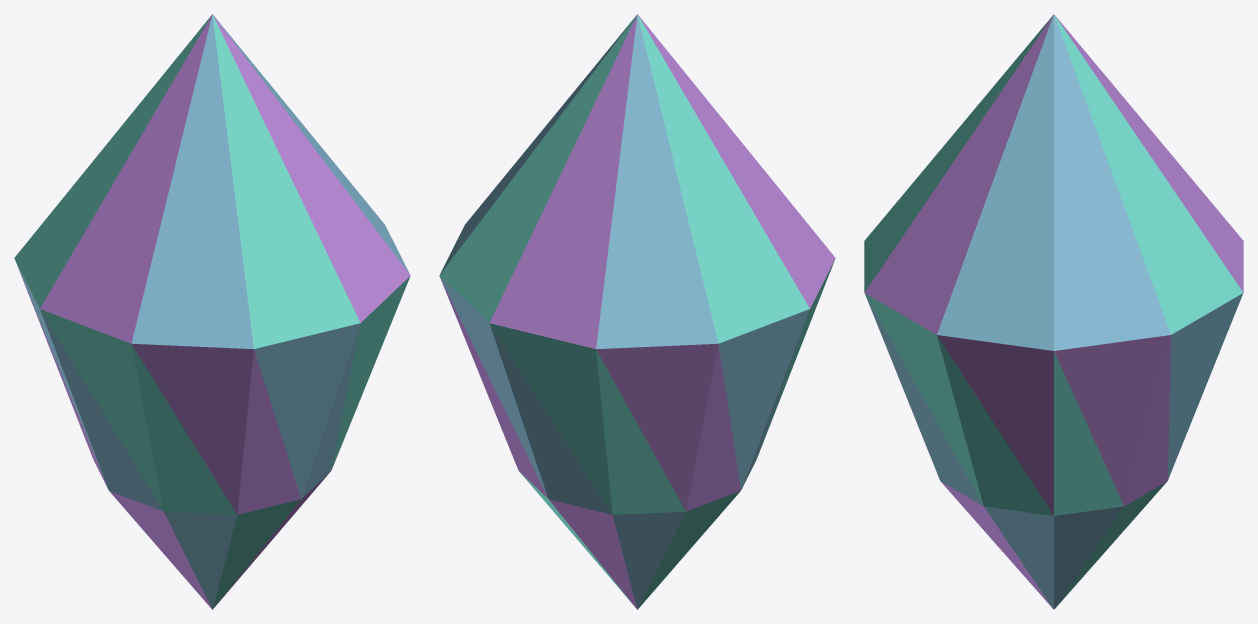
Rendered from crystal.glb.
The picture shows the model from 3 angles, left to right: view 1: azimuth 30°, elevation 25°; view 2: azimuth 150°, elevation 25°; view 3: azimuth 270°, elevation 25°; orthographic projection.
Bounding box in the file's own units: 2 × 3.3 × 1.9.
